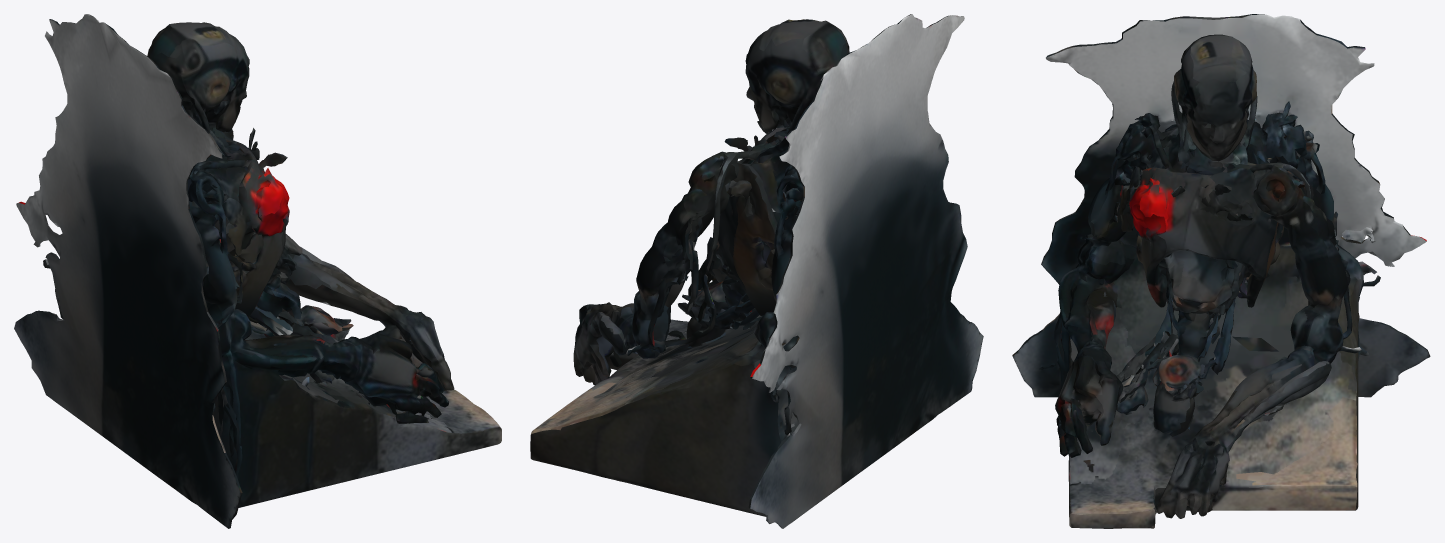
The model's file is robot.gltf.
3 renders of one model, left to right at view 1: azimuth 30°, elevation 25°; view 2: azimuth 150°, elevation 25°; view 3: azimuth 270°, elevation 25°, orthographic. The views are drawn at different scales.
Parts seen in each view (by area): view 1: tmp32yhtr1p.ply; view 2: tmp32yhtr1p.ply; view 3: tmp32yhtr1p.ply.
Boxes of the visible parts, bbox=[...] form: tmp32yhtr1p.ply: bbox=[14, 14, 501, 528]; tmp32yhtr1p.ply: bbox=[530, 14, 983, 528]; tmp32yhtr1p.ply: bbox=[1012, 14, 1430, 528].
Size of the model in its own units: 1.49 by 1.99 by 1.97.
1 material, 1 textured.
